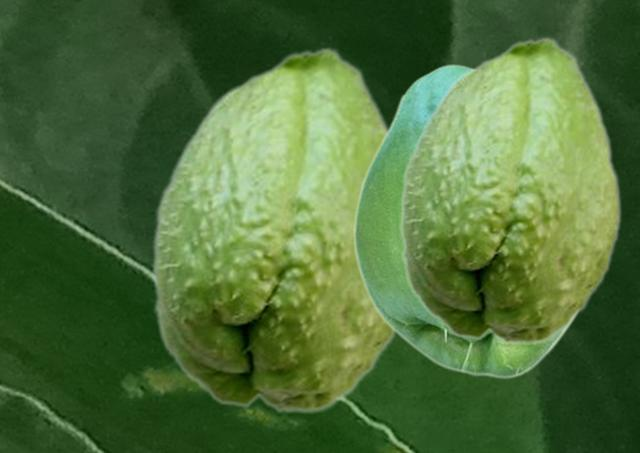sayote: (151, 45, 396, 414), (352, 64, 579, 379), (399, 35, 622, 345)
